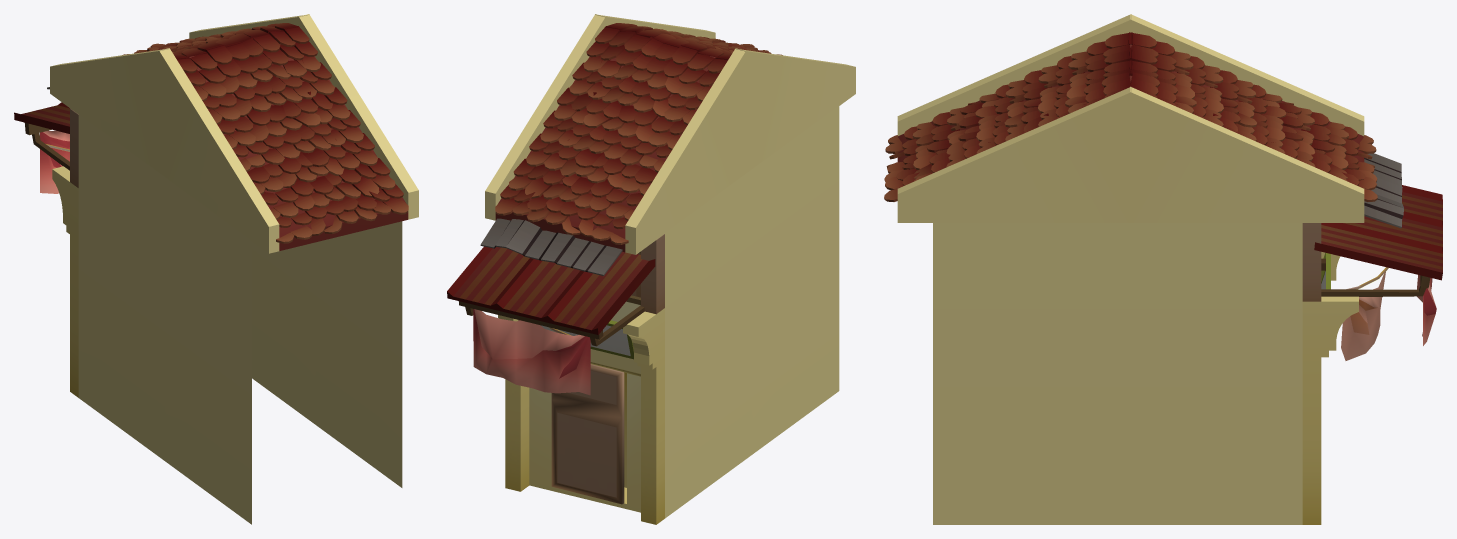
Rendered from SM_FacadeOldQuarter_Simple_01.fbx.
3 renders of one model, left to right at view 1: azimuth 30°, elevation 25°; view 2: azimuth 150°, elevation 25°; view 3: azimuth 270°, elevation 25°, orthographic. The views are drawn at different scales.
Parts seen in each view (by area): view 1: SM_FacadeOldQuarter_Simple_01.001; view 2: SM_FacadeOldQuarter_Simple_01.001; view 3: SM_FacadeOldQuarter_Simple_01.001.
Part boxes in pixels (box(x1,y1,x2,y2)): SM_FacadeOldQuarter_Simple_01.001: box(14, 14, 418, 524); SM_FacadeOldQuarter_Simple_01.001: box(447, 14, 855, 524); SM_FacadeOldQuarter_Simple_01.001: box(884, 14, 1442, 524).
Size of the model in its own units: 302 by 775 by 907.
